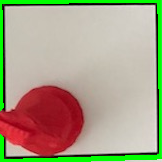Red Knight: (1, 81, 94, 158)
